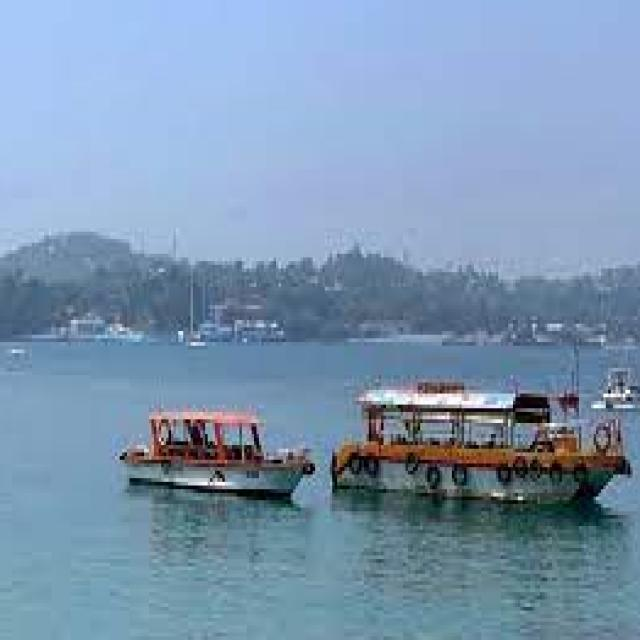houseboat: (114, 392, 311, 524)
